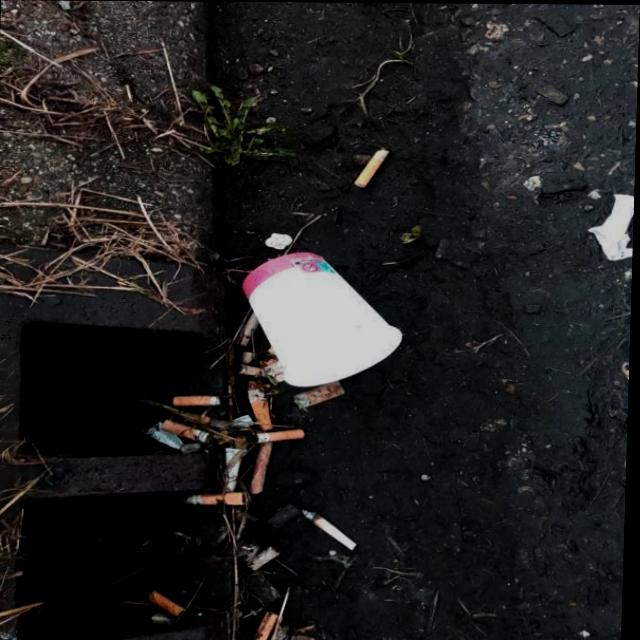Cup: (238, 249, 409, 388)
